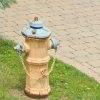a fire hydrant: (22, 20, 55, 98)
